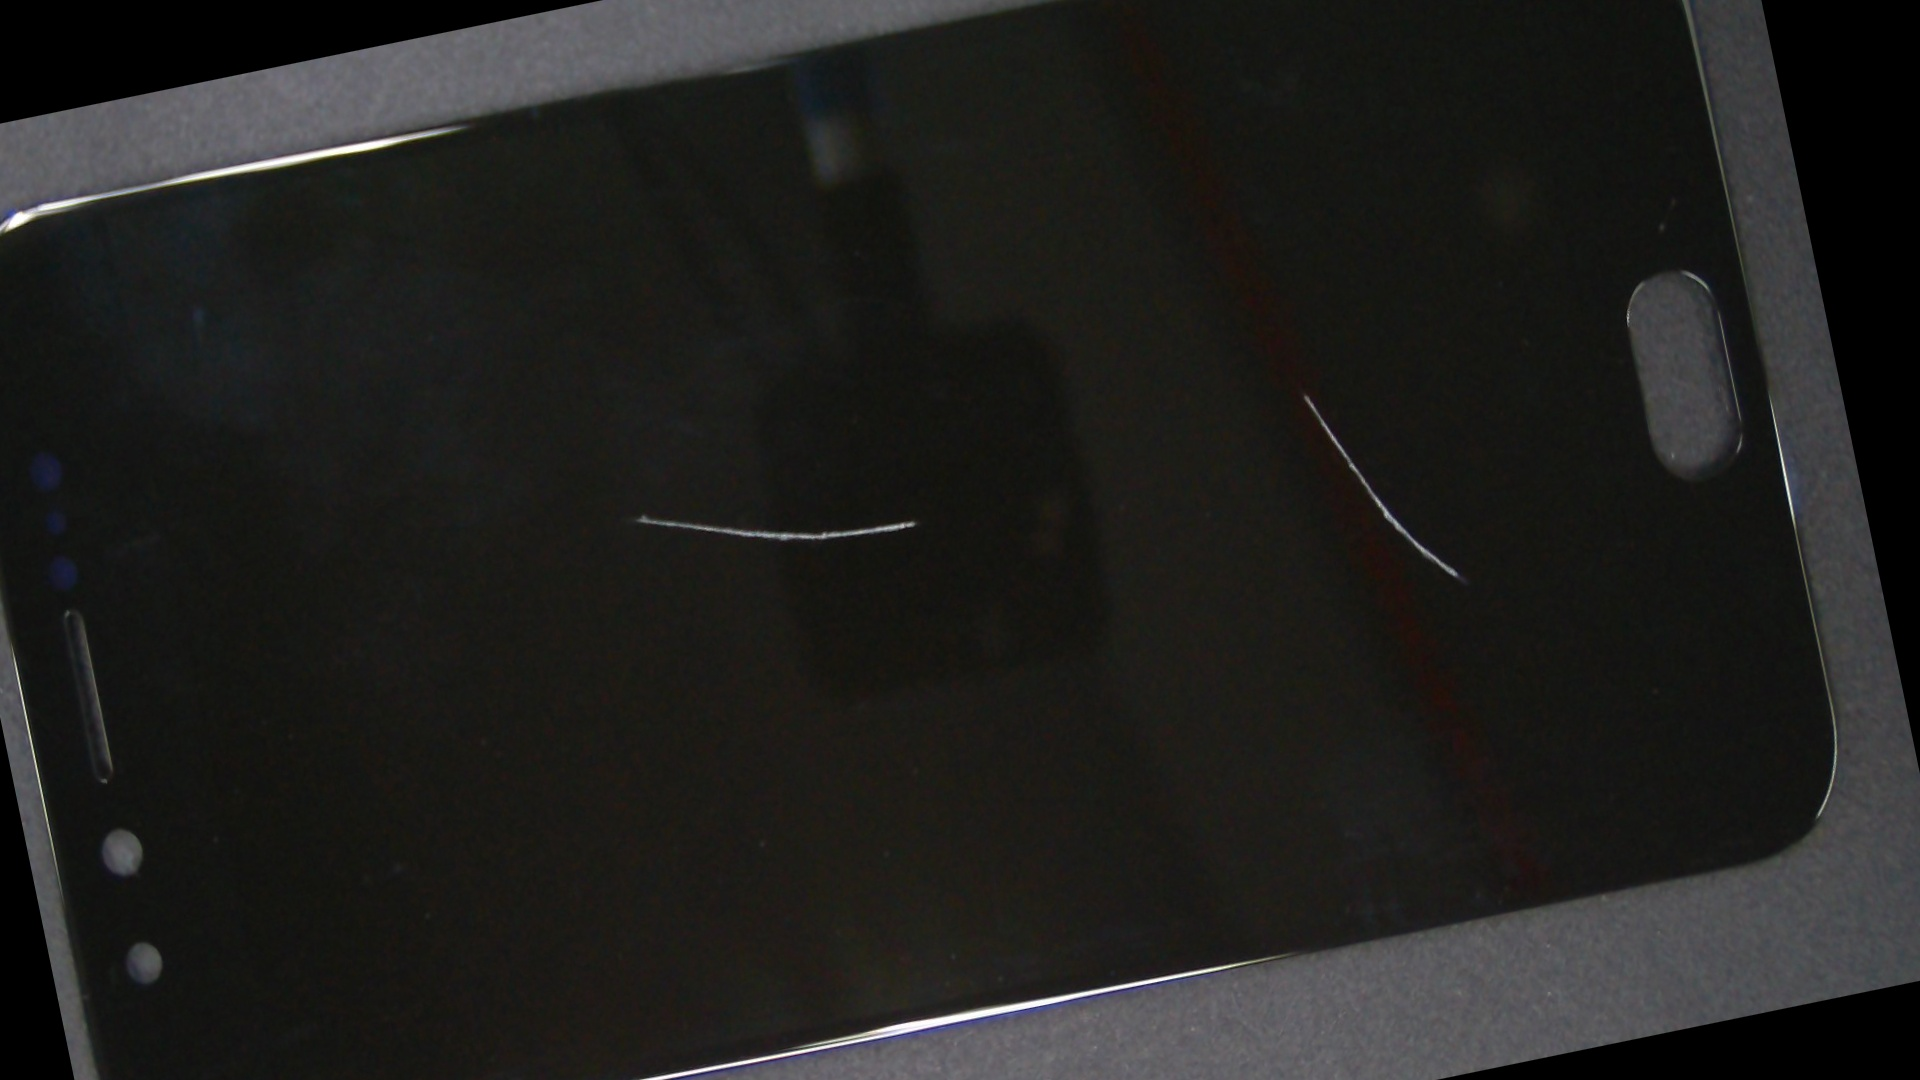oil: (595, 29, 1874, 787), (262, 196, 1021, 835)
